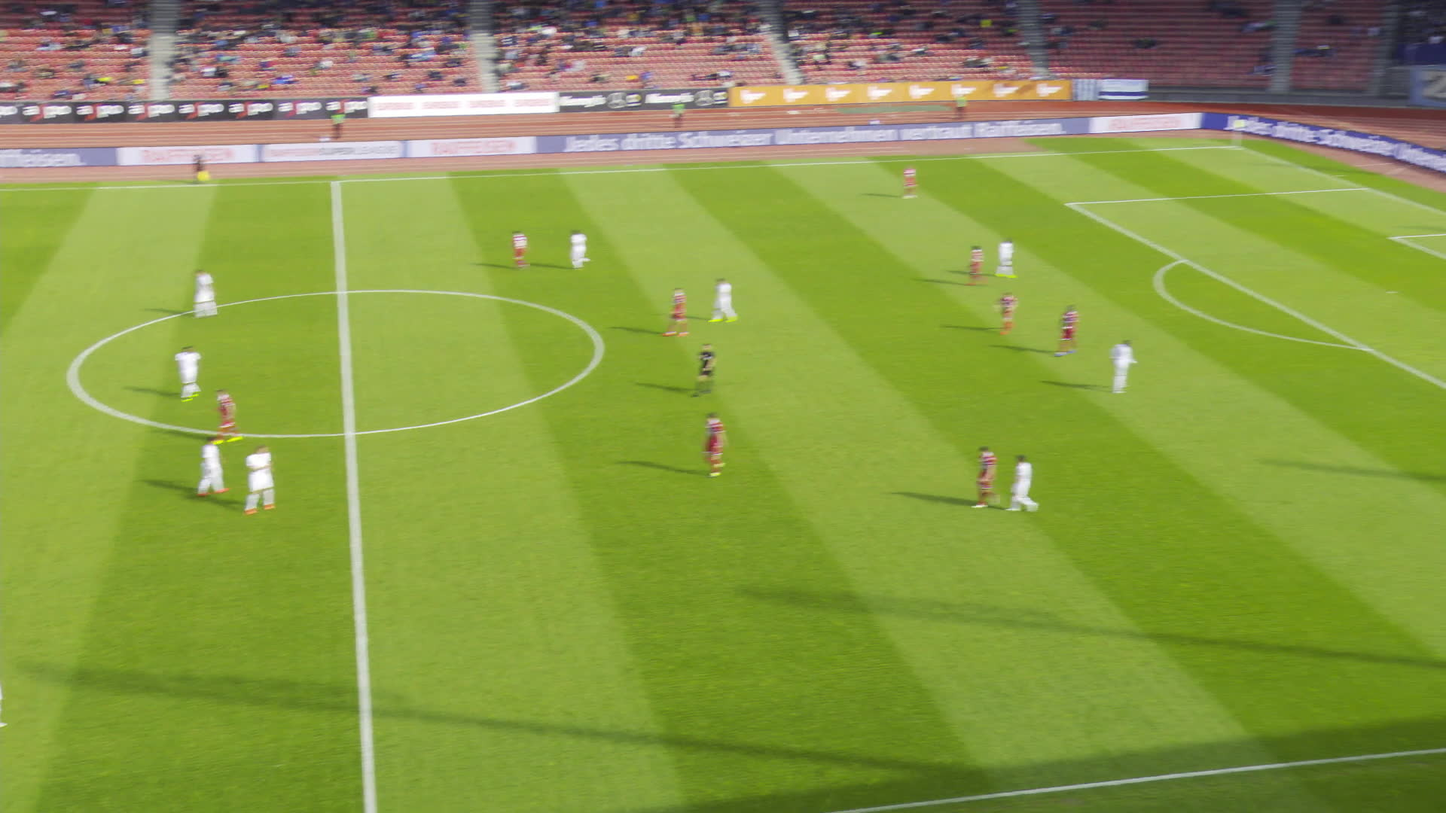player: (26, 629, 69, 712), (242, 444, 279, 515), (701, 409, 733, 478), (196, 434, 230, 498), (971, 443, 1002, 510), (1007, 454, 1042, 512), (212, 386, 244, 445), (173, 343, 202, 402), (1107, 338, 1136, 394), (664, 283, 693, 338), (709, 275, 740, 324), (1053, 303, 1081, 357), (191, 268, 221, 318), (993, 288, 1018, 334), (569, 227, 595, 271), (964, 242, 989, 287), (994, 236, 1018, 279), (510, 228, 531, 268), (901, 163, 920, 199)
referee: (691, 340, 717, 398), (193, 151, 207, 185)
